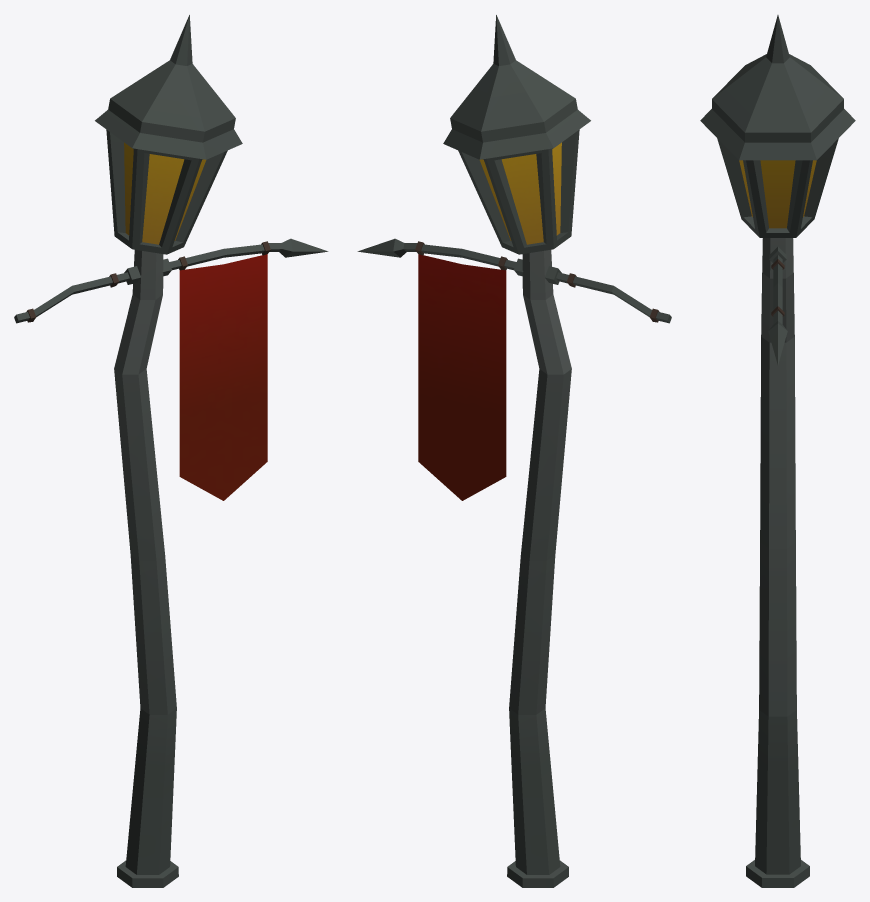
Rendered from Street_lamp_03.fbx.
3 renders of one model, left to right at view 1: azimuth 30°, elevation 25°; view 2: azimuth 150°, elevation 25°; view 3: azimuth 270°, elevation 25°, orthographic. The views are drawn at different scales.
Visible parts, largest first — view 1: Street_lamp_1.001; view 2: Street_lamp_1.001; view 3: Street_lamp_1.001.
Boxes of the visible parts, left/top/right/bottom form: Street_lamp_1.001: left=14, top=15, right=328, bottom=887; Street_lamp_1.001: left=357, top=15, right=671, bottom=887; Street_lamp_1.001: left=700, top=15, right=855, bottom=887.
Size of the model in its own units: 2.65 by 6.9 by 1.1.
